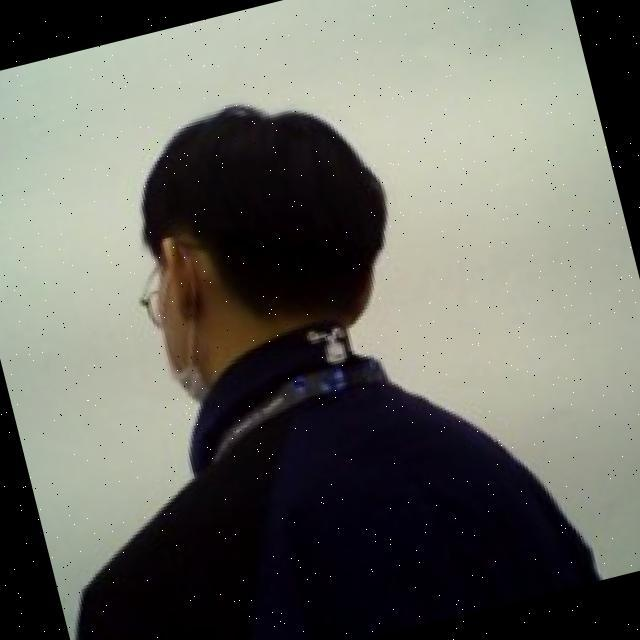no_gloves: (114, 66, 417, 371)
